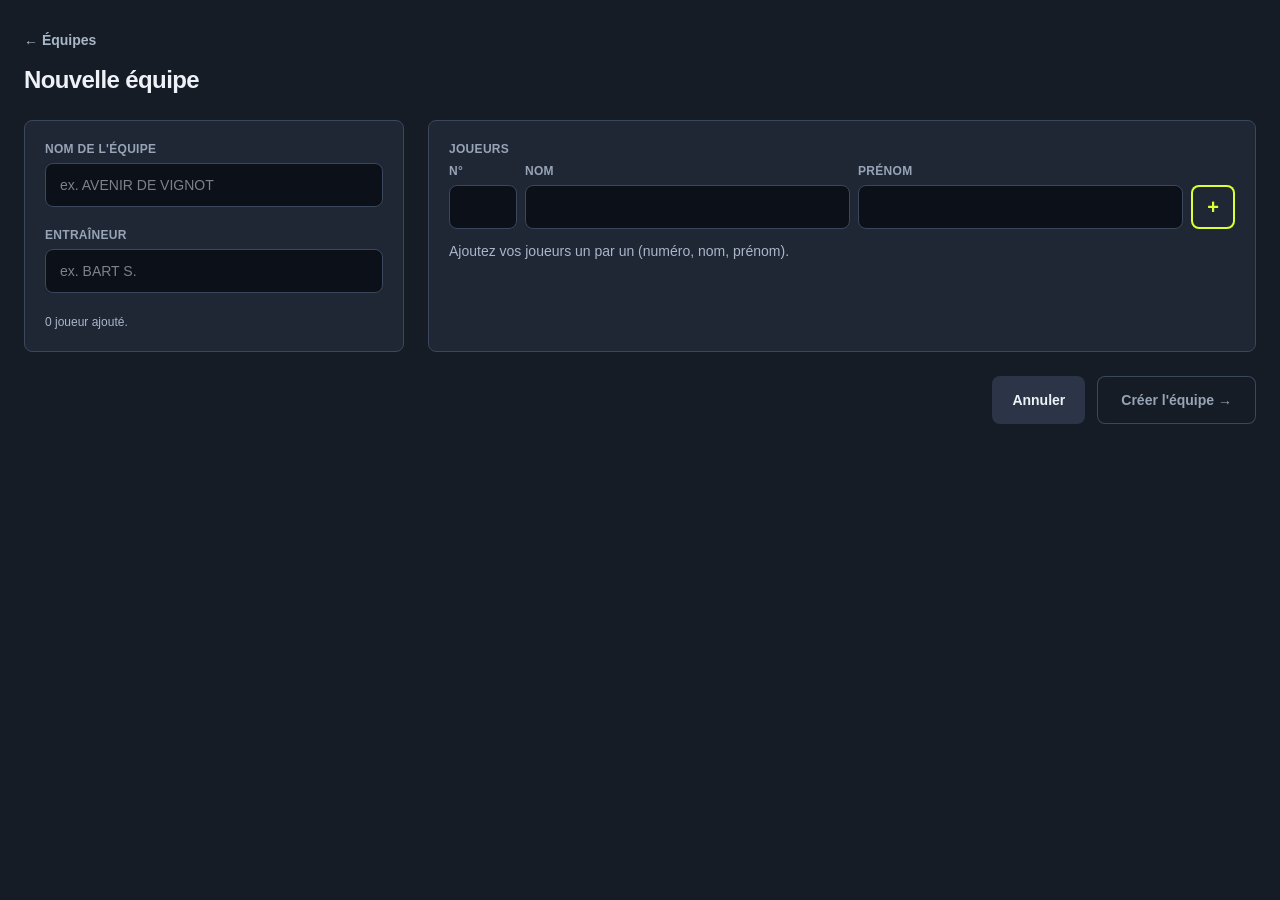
Test: TeamCreate — rights › creating a team is the admin's: the staff is asked for the admin code
Type "VIGNOT" into the field labelled "Nom de l'équipe". click: x=214, y=185
box: [45,163,383,207]
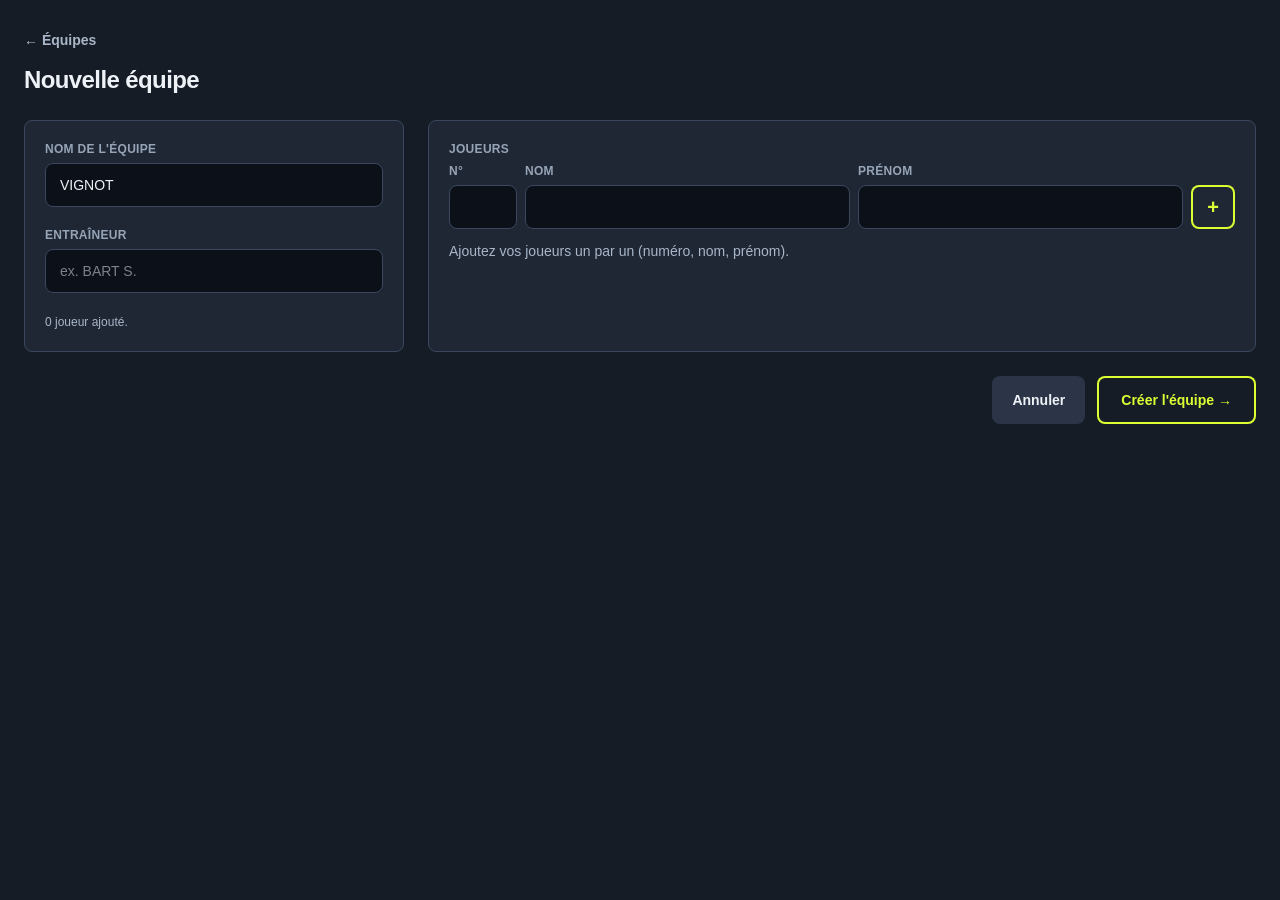
Click the button "Créer l'équipe →". click: x=1177, y=400
box: [1097,376,1256,424]
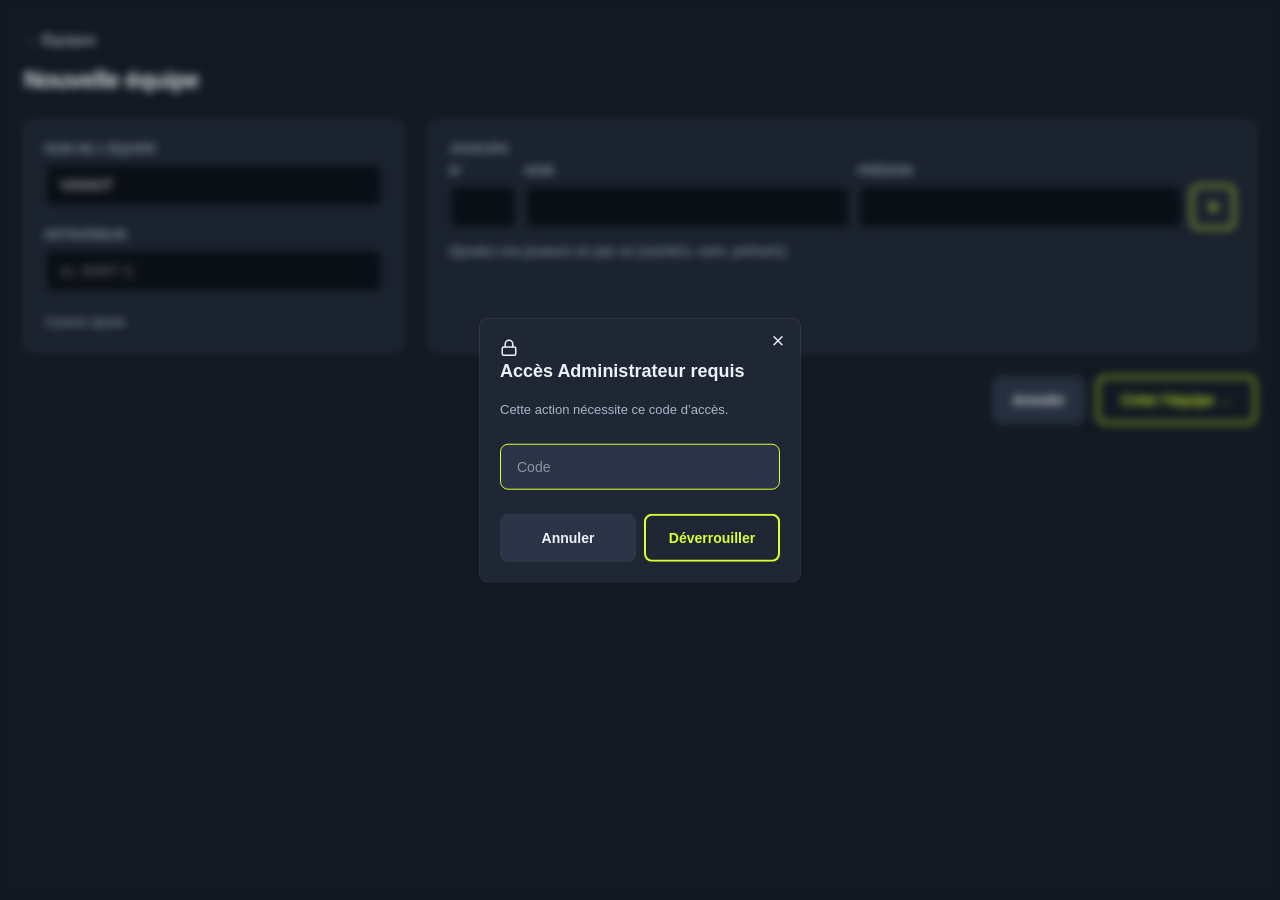
Result: the heading "Accès Administrateur requis" is shown at [500,339,780,385]
